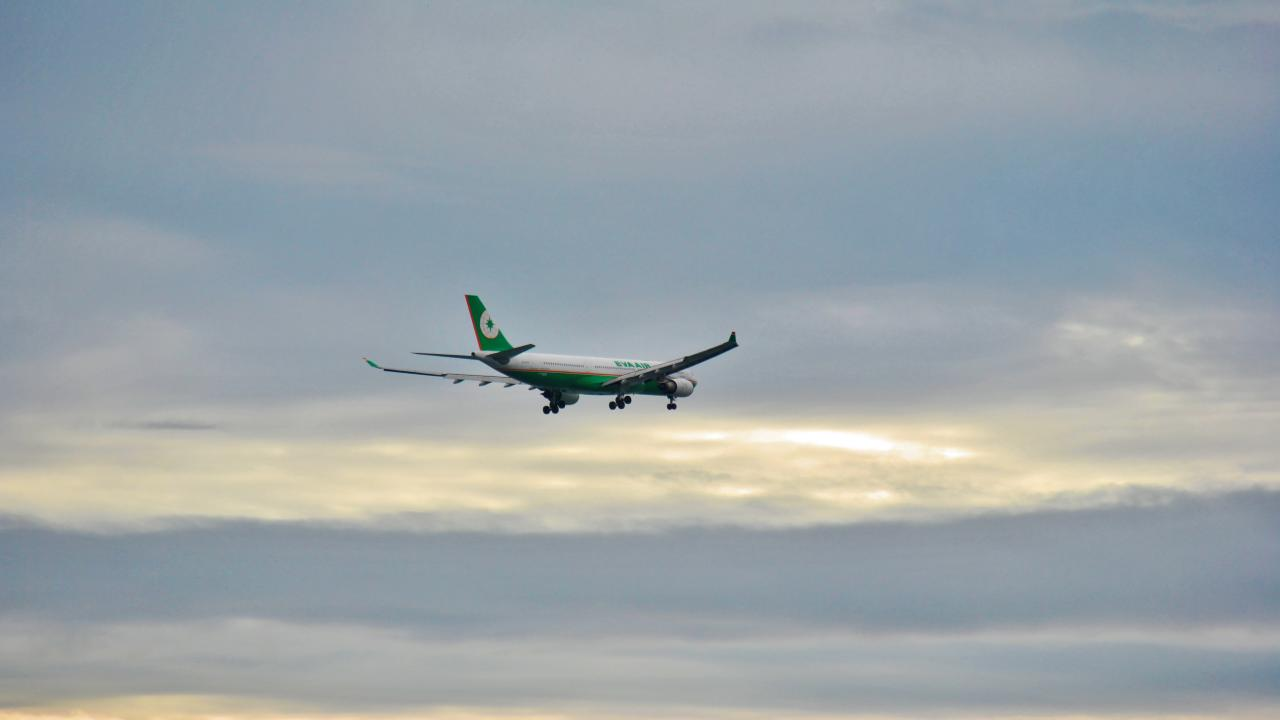Airplane: (355, 284, 761, 430)
